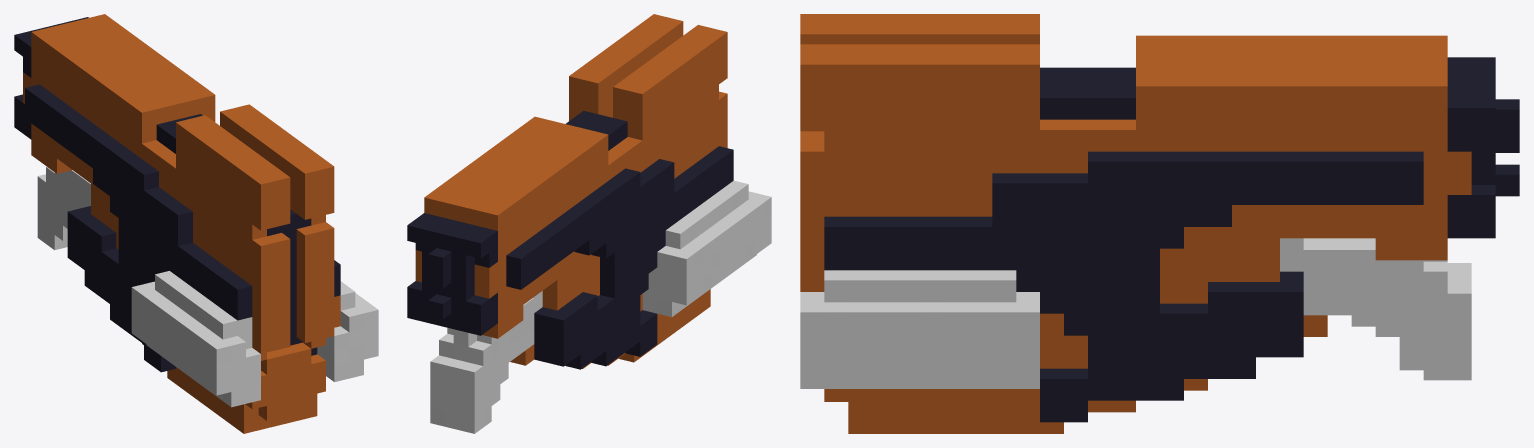
The model's file is gun1painted.obj.
3 views of the same model, side by side, from view 1: azimuth 30°, elevation 25°; view 2: azimuth 150°, elevation 25°; view 3: azimuth 270°, elevation 25° (orthographic). The views are drawn at different scales.
Size of the model in its own units: 11 by 17 by 30.
